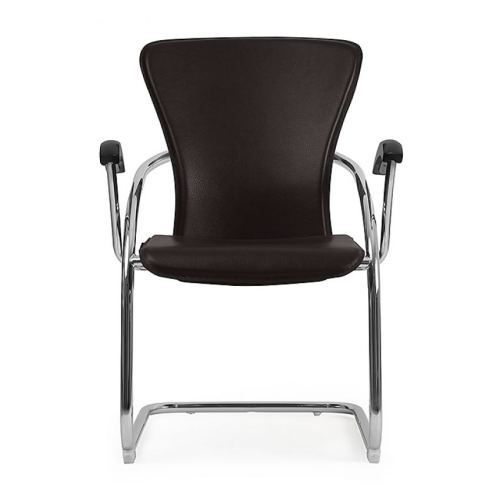chairs: (96, 38, 404, 470)
